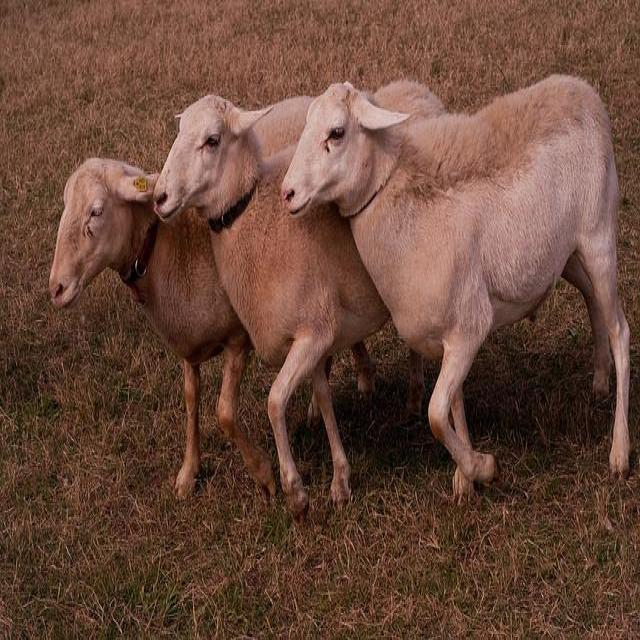Sheep: (282, 75, 632, 508), (154, 84, 471, 527), (49, 158, 280, 509)
